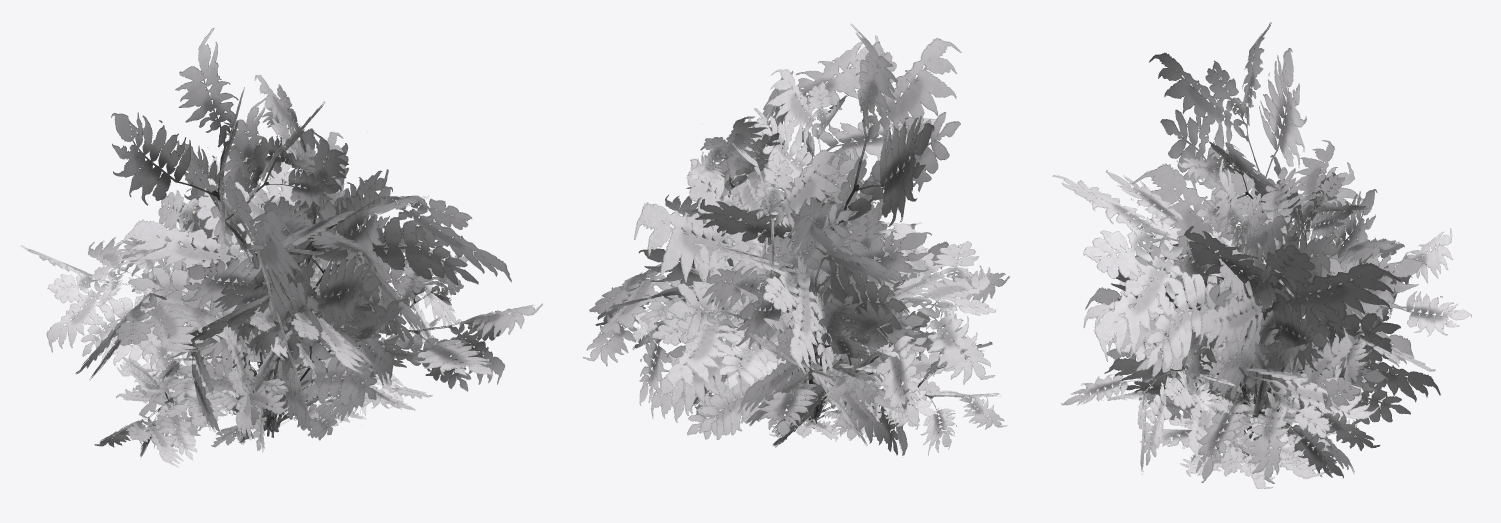
The model's file is snow-bush.glb.
The picture shows the model from 3 angles, left to right: view 1: azimuth 30°, elevation 25°; view 2: azimuth 150°, elevation 25°; view 3: azimuth 270°, elevation 25°; orthographic projection. The views are drawn at different scales.
Visible parts, largest first — view 1: stk_snowSmallBush_a.png__; view 2: stk_snowSmallBush_a.png__; view 3: stk_snowSmallBush_a.png__.
Part boxes in pixels (box(x1,y1,x2,y2)): stk_snowSmallBush_a.png__: box(21, 27, 542, 467); stk_snowSmallBush_a.png__: box(583, 24, 1009, 455); stk_snowSmallBush_a.png__: box(1052, 22, 1471, 489).
Size of the model in its own units: 3.88 by 4.41 by 3.86.
1 material, 1 textured.
